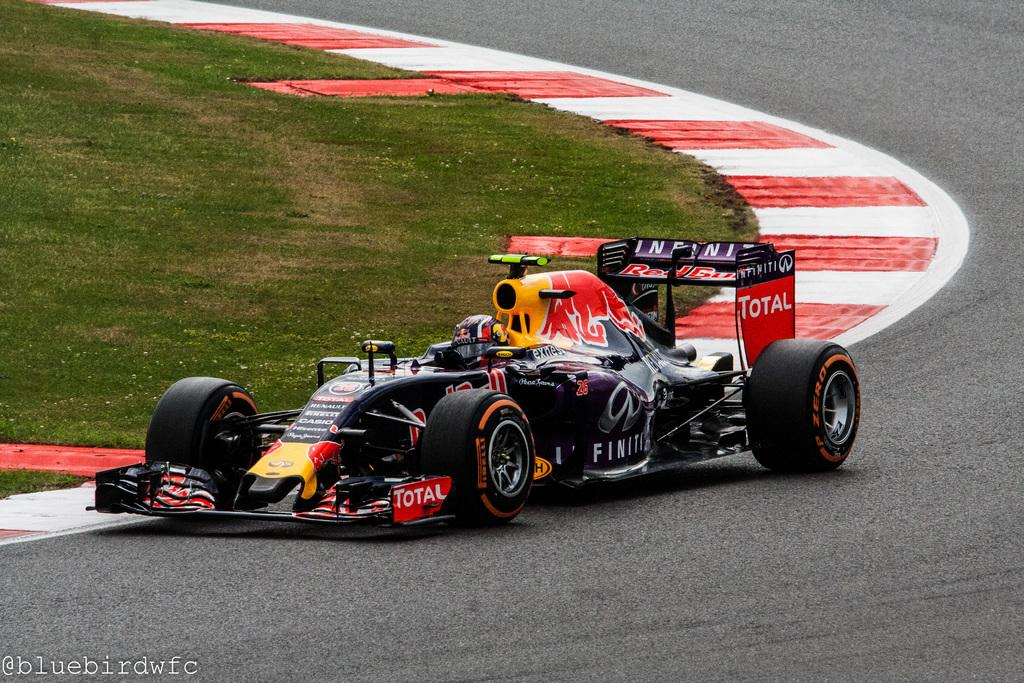helmet: (451, 314, 511, 373)
